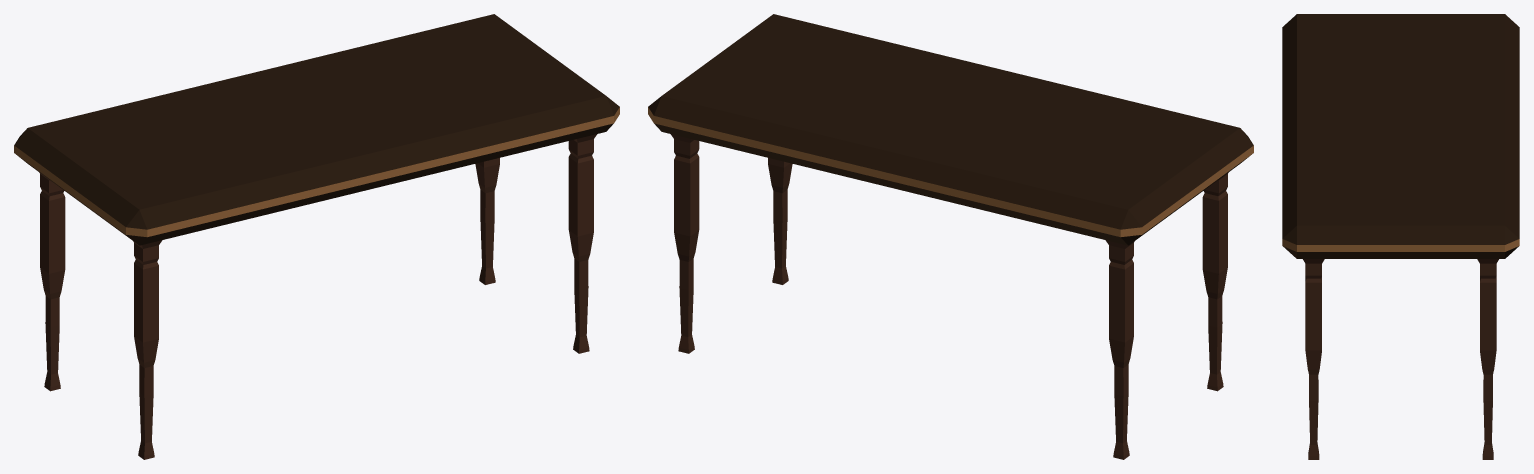
File: DeskV2.fbx
3 renders of one model, left to right at view 1: azimuth 30°, elevation 25°; view 2: azimuth 150°, elevation 25°; view 3: azimuth 270°, elevation 25°, orthographic. The views are drawn at different scales.
Parts seen in each view (by area): view 1: DeskV2; view 2: DeskV2; view 3: DeskV2.
Boxes of the visible parts, <box> form: DeskV2: <box>14,14,619,459</box>; DeskV2: <box>648,14,1253,459</box>; DeskV2: <box>1282,14,1519,459</box>.
Size of the model in its own units: 156 by 77.82 by 69.94.
